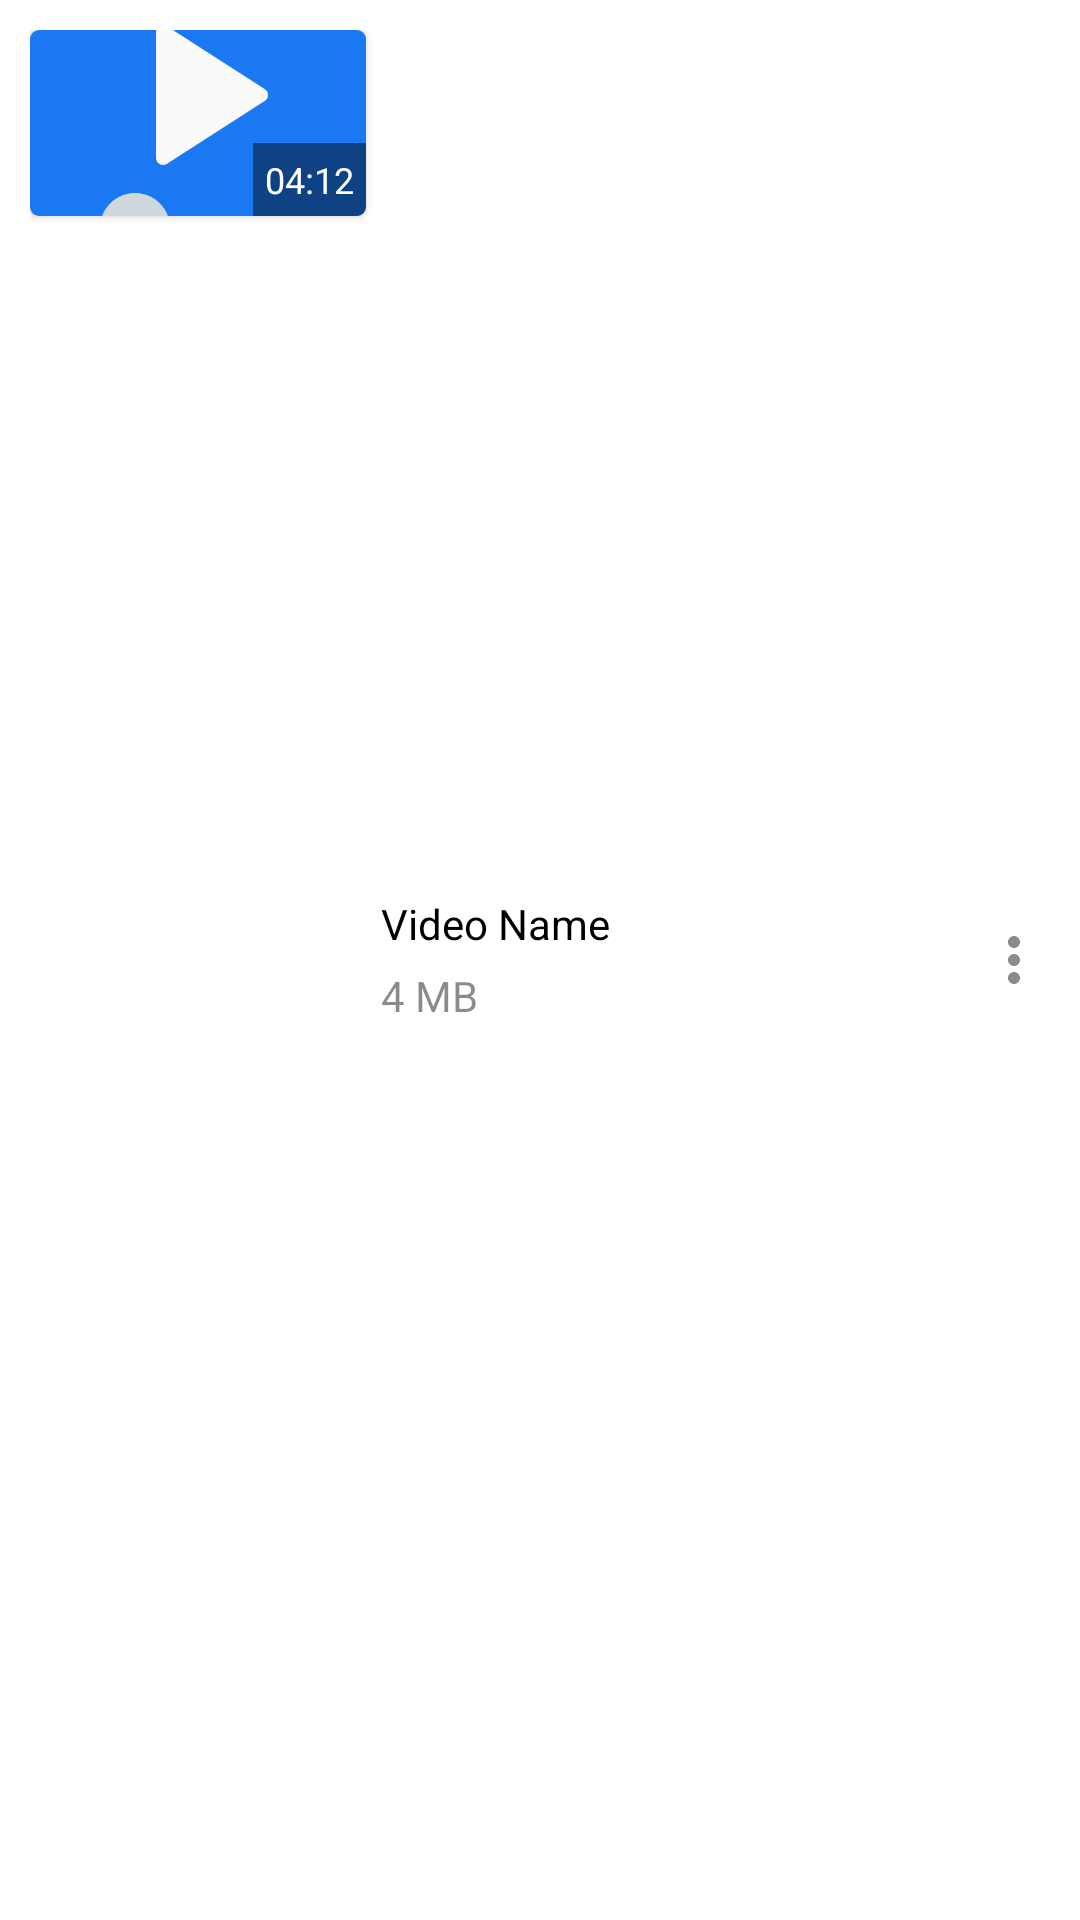

Screen size 1080px x 1920px. Icon name, then its center in pixels as (x=x, y=y):
more: (x=1014, y=960)
vpicon: (x=198, y=123)
